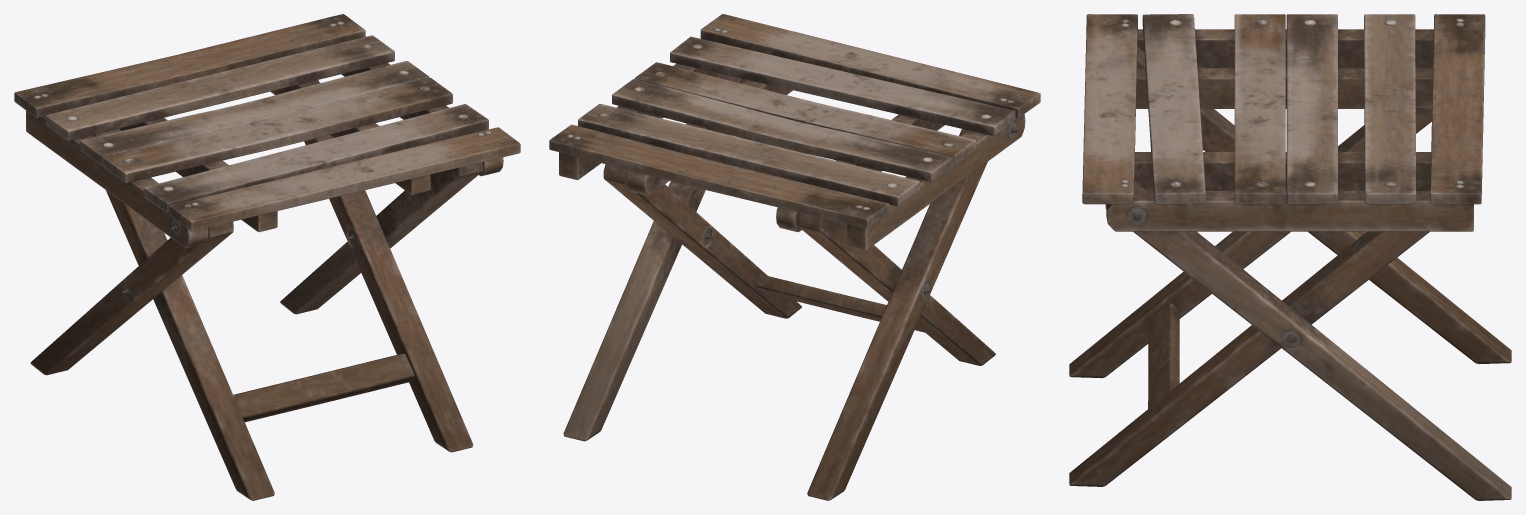
File: stool.glb
The picture shows the model from 3 angles, left to right: view 1: azimuth 30°, elevation 25°; view 2: azimuth 150°, elevation 25°; view 3: azimuth 270°, elevation 25°; orthographic projection. The views are drawn at different scales.
Parts seen in each view (by area): view 1: folding_wooden_stool; view 2: folding_wooden_stool; view 3: folding_wooden_stool.
Boxes of the visible parts, left/top/right/bottom form: folding_wooden_stool: left=14, top=14, right=520, bottom=500; folding_wooden_stool: left=549, top=14, right=1040, bottom=500; folding_wooden_stool: left=1069, top=14, right=1511, bottom=500.
Size of the model in its own units: 0.5278 by 0.442 by 0.5471.
1 material, 1 textured.
